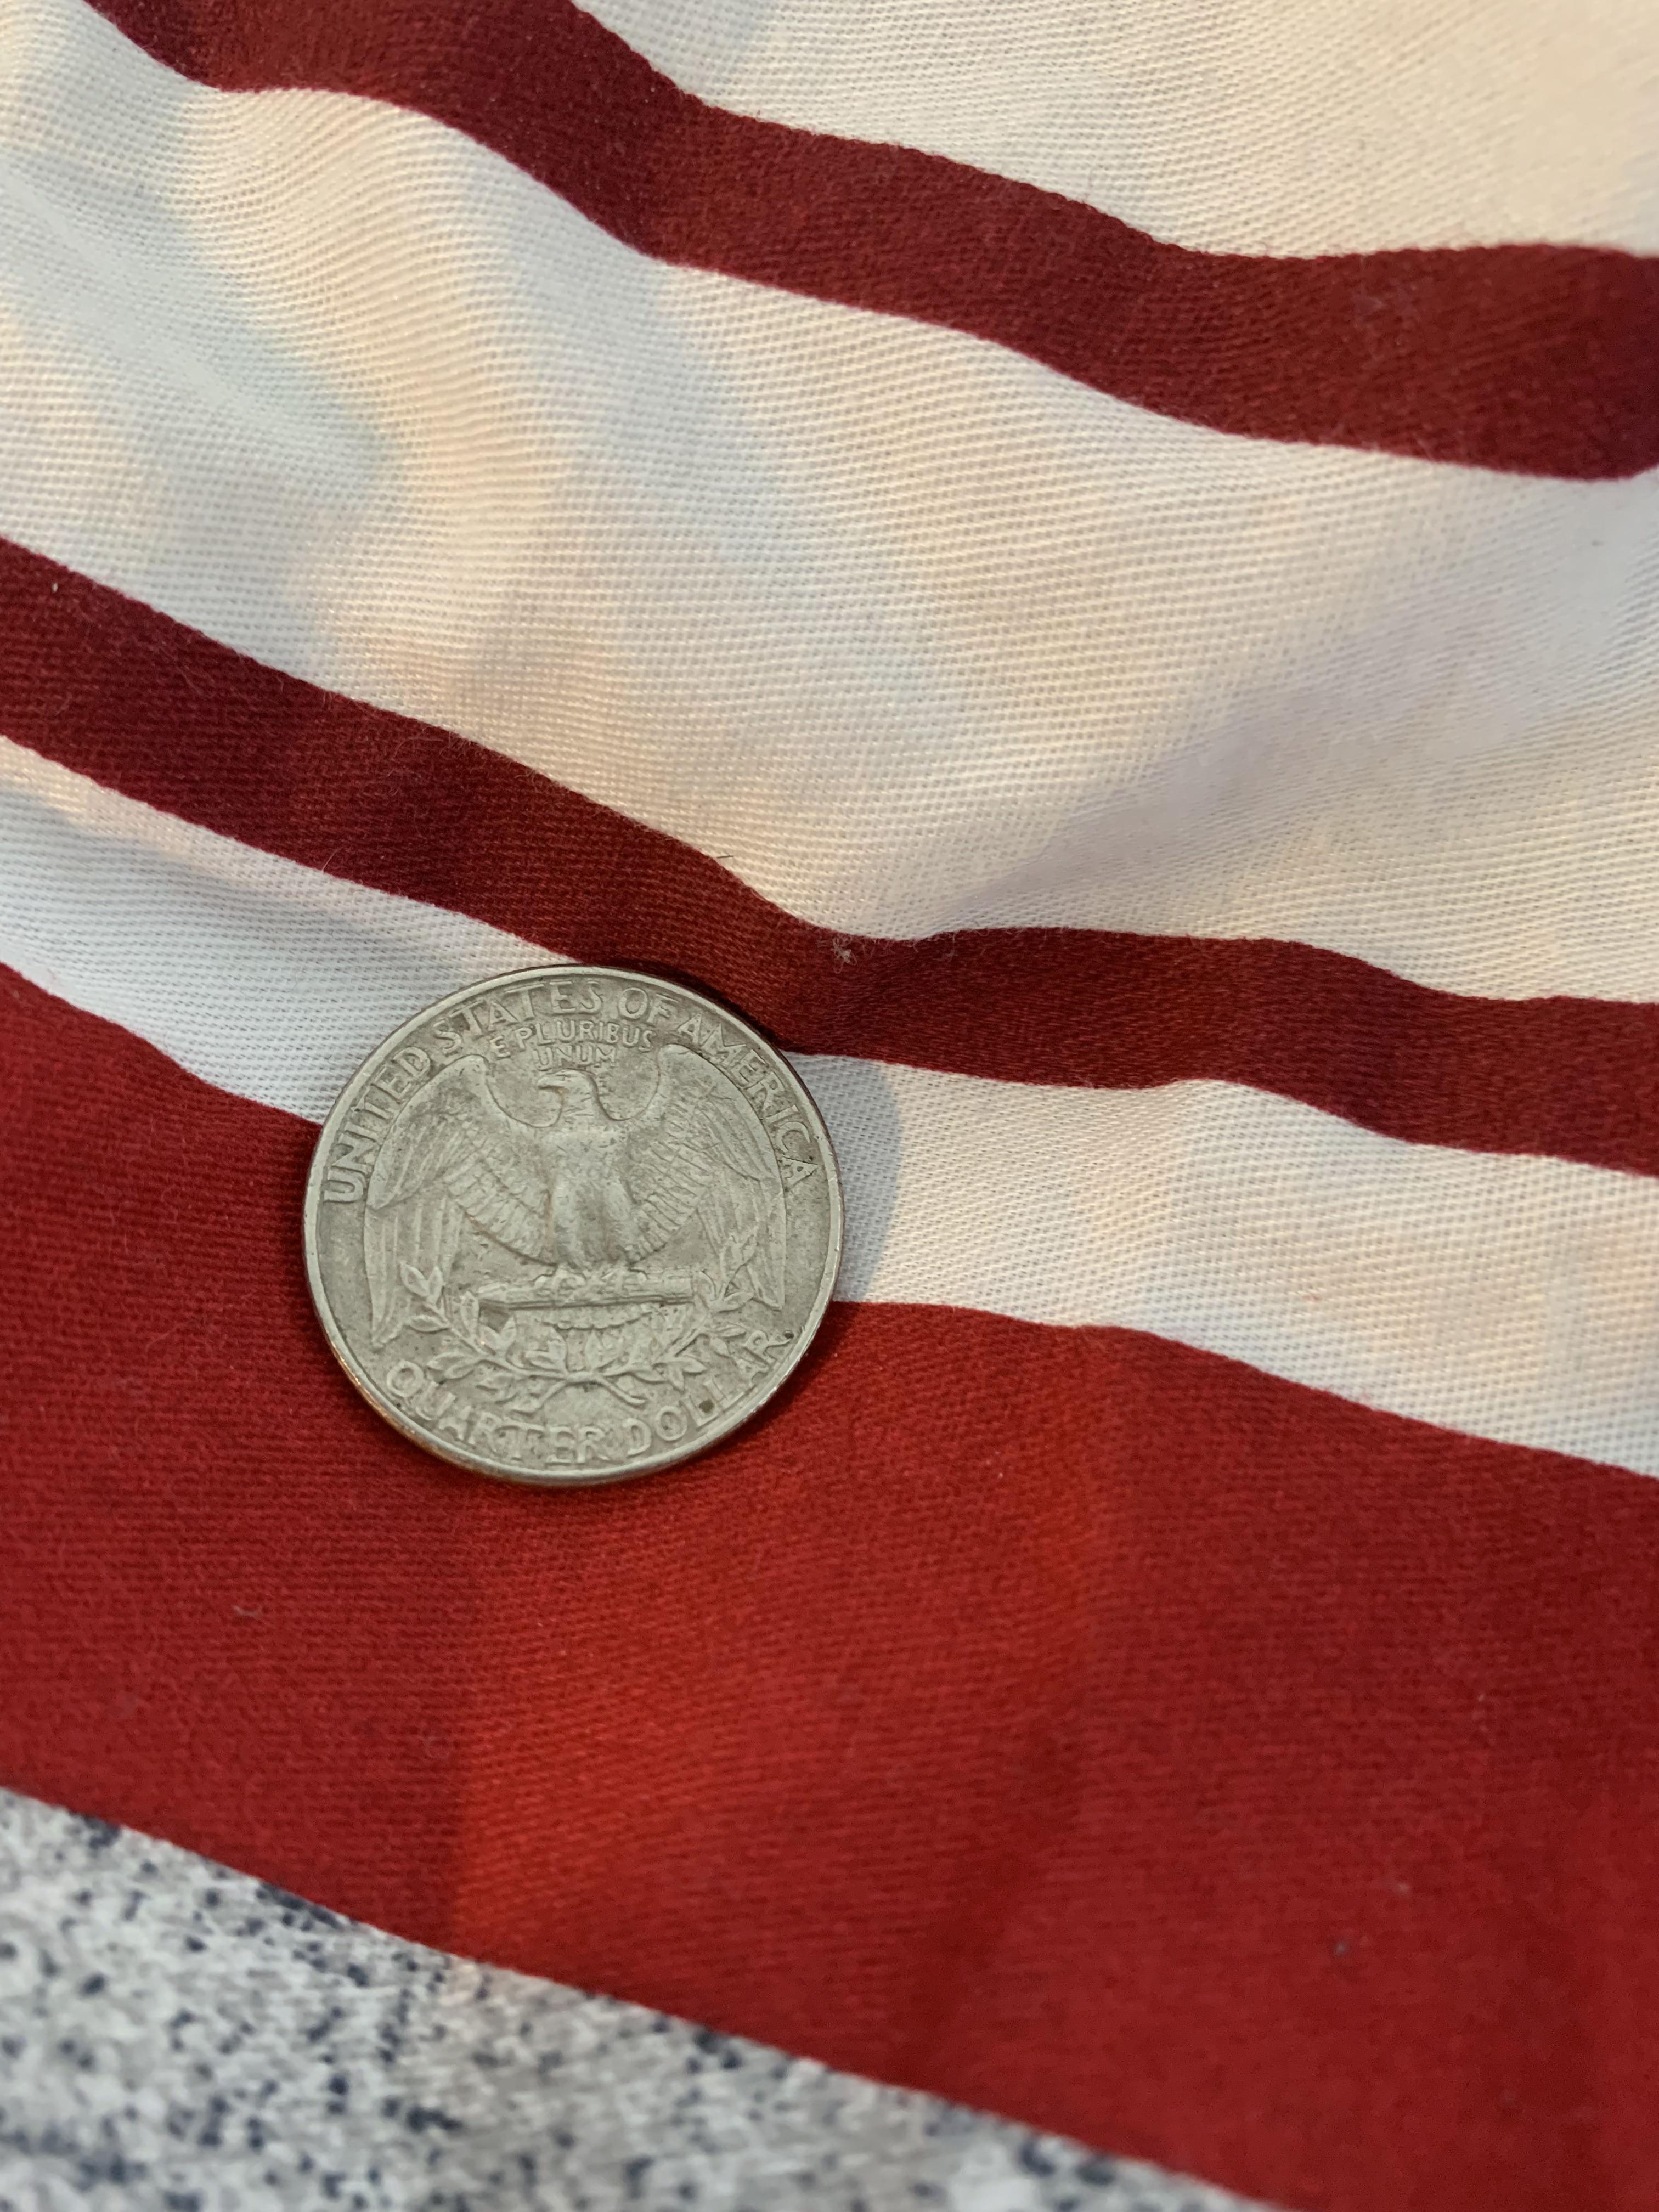Quarter: (295, 949, 861, 1498)
